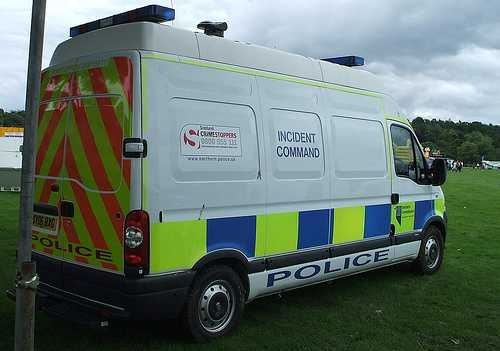Police Van: (28, 12, 456, 317)
